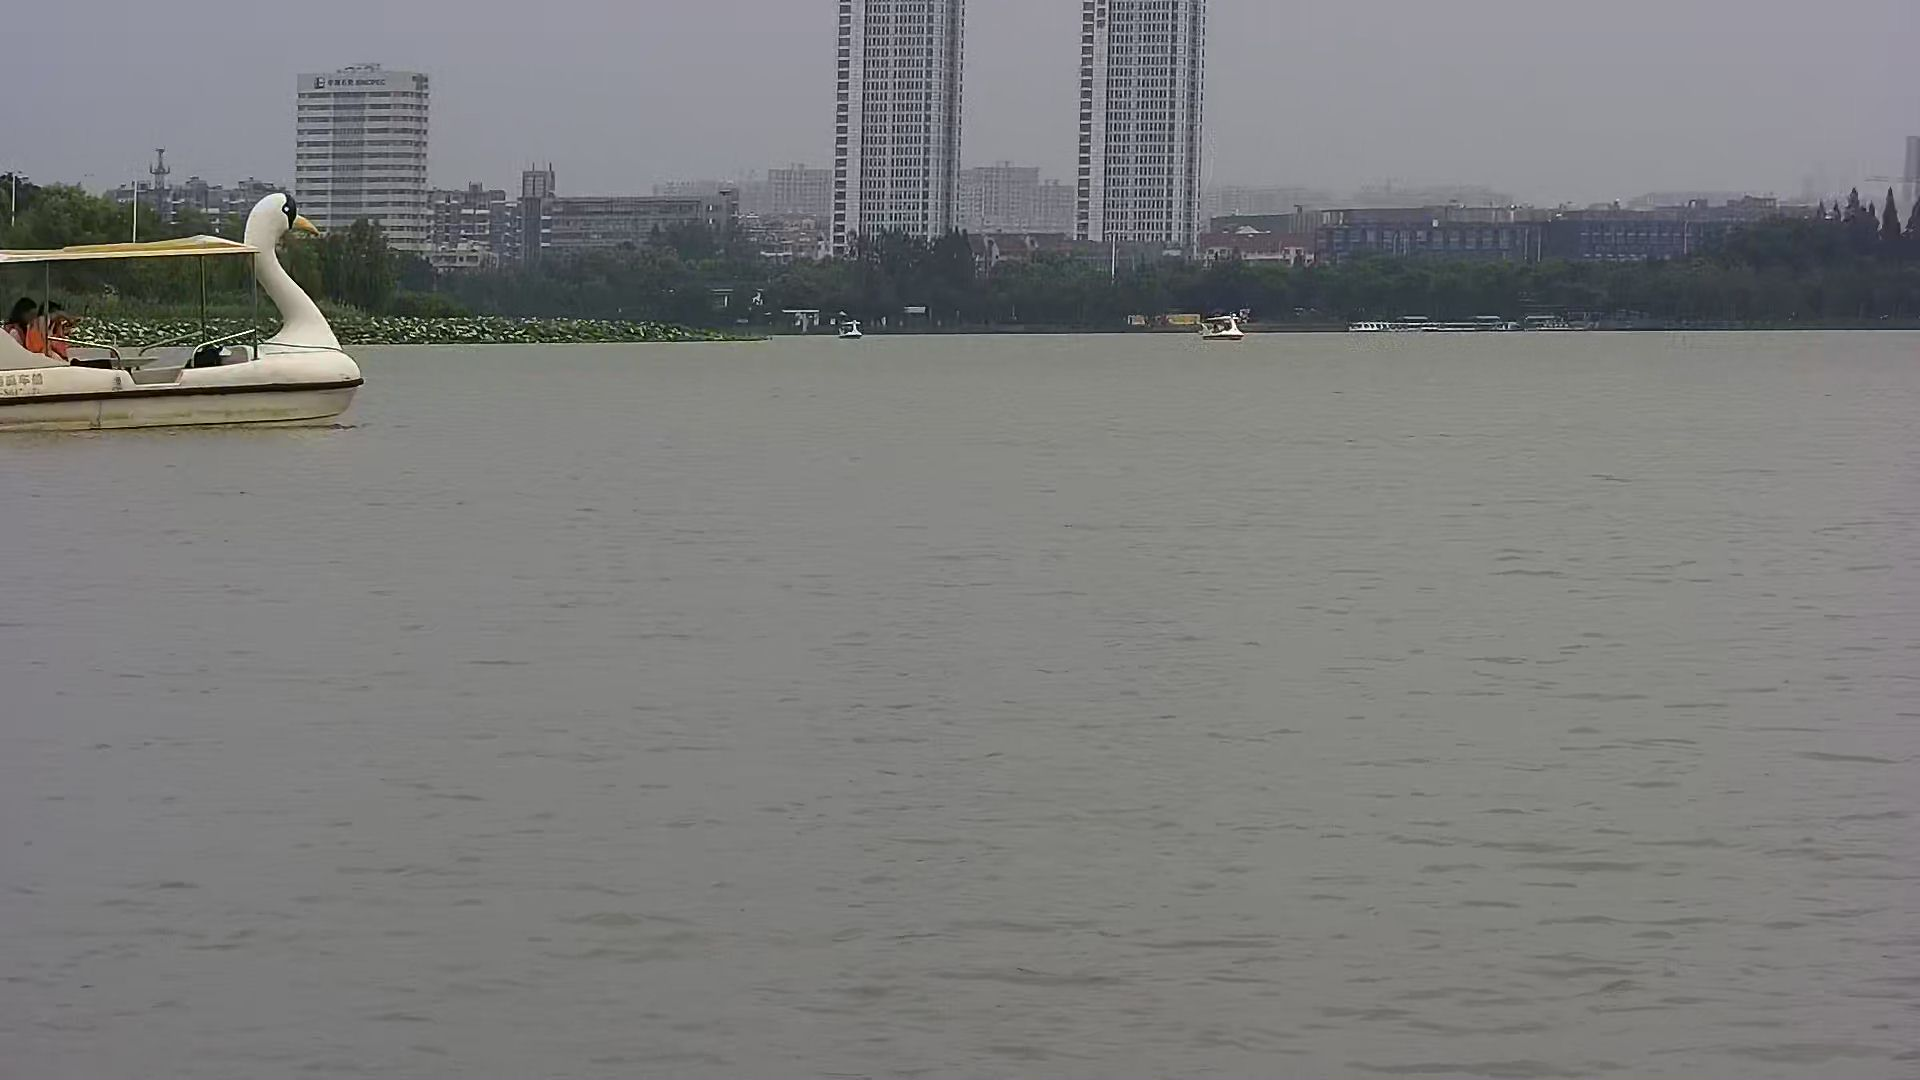boat: (7, 187, 368, 433)
